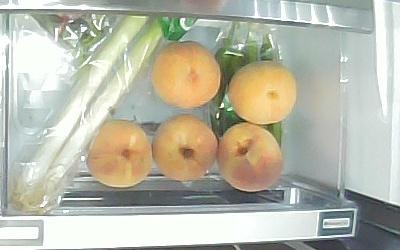peach: (151, 41, 220, 110), (151, 115, 218, 181), (228, 61, 298, 124), (219, 123, 283, 191), (87, 120, 151, 187)
